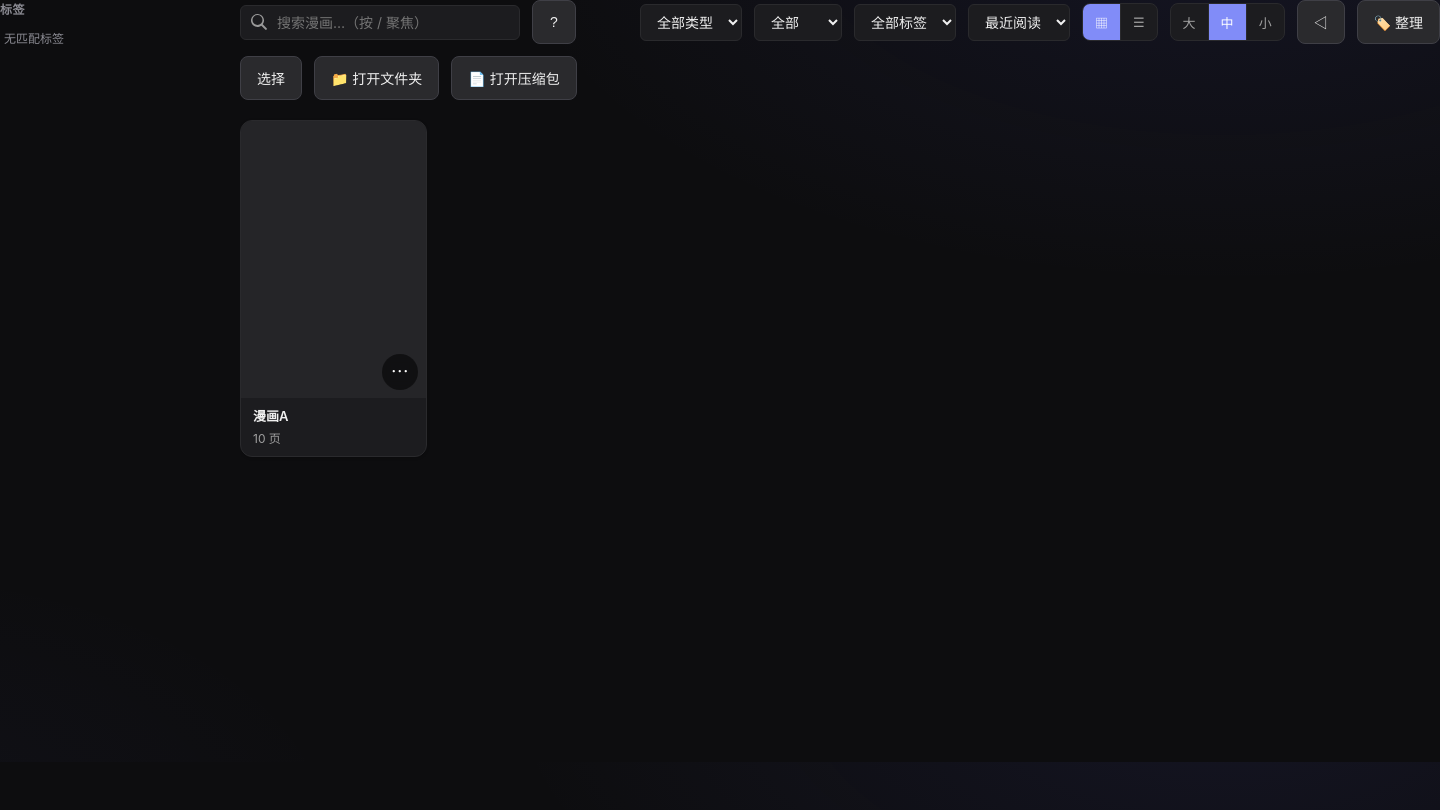
Test case: Library 卡片操作面板（触屏可达性） › 面板里的「重命名」接上既有弹窗（此前触屏完全没有入口）
Check: the text "漫画A" is shown, box [253,408,288,424]
Click the button named "更多操作：漫画A". click: (400, 372)
box: [382,354,418,390]
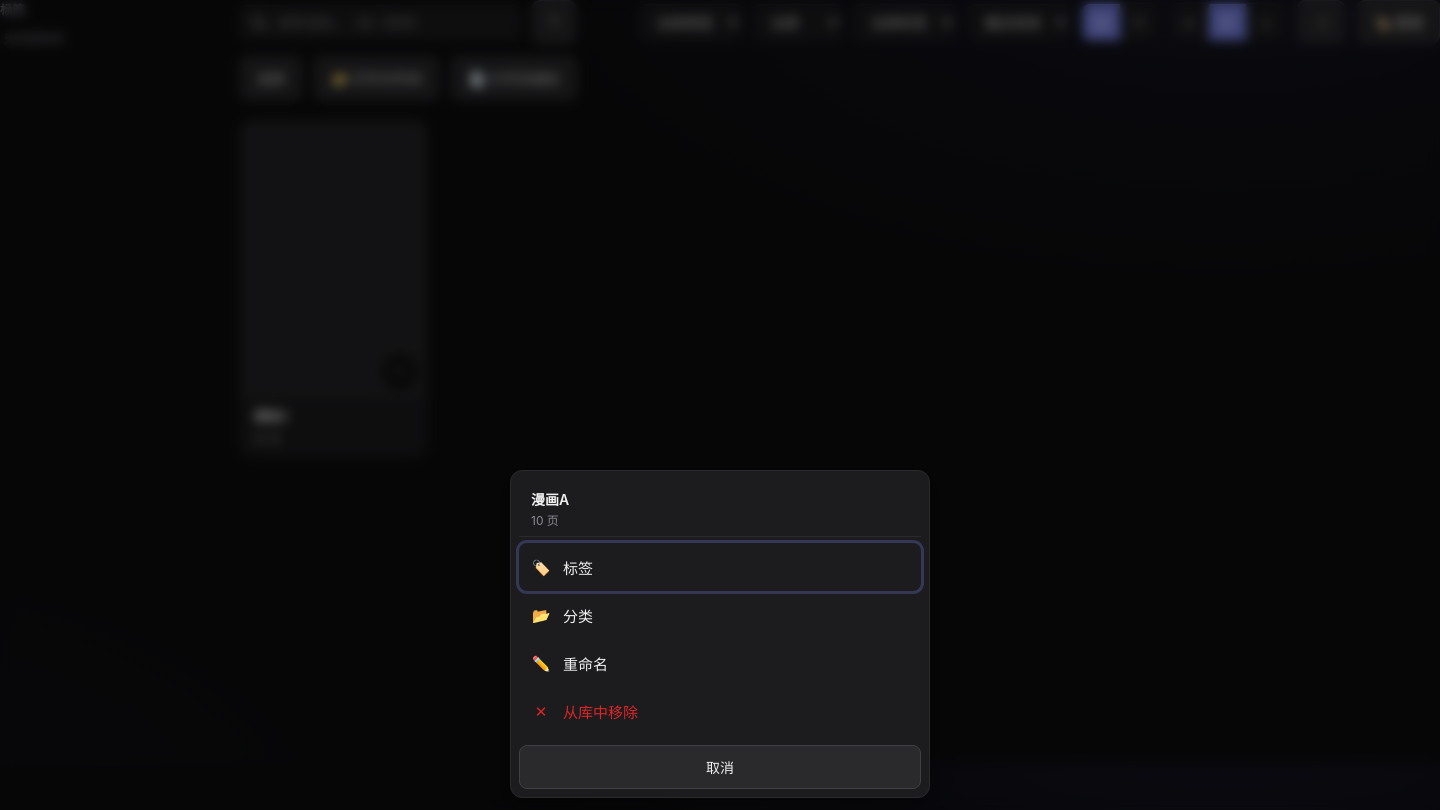
Click the button "✏️ 重命名". click: (586, 664)
box: [519,639,921,687]
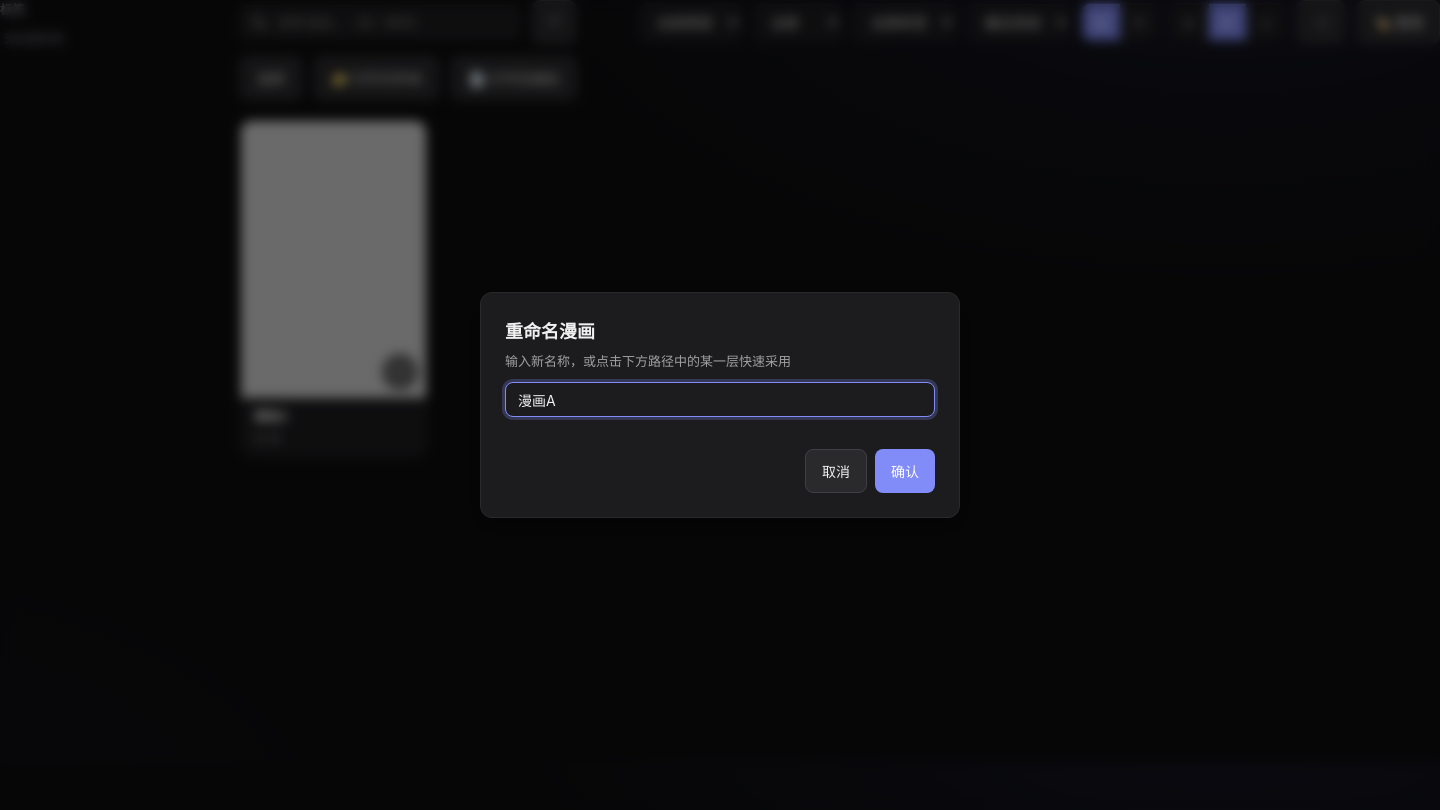
Check: the text "重命名漫画" is shown, box [505,321,595,342]
Check: the dialog "漫画操作" is gone
